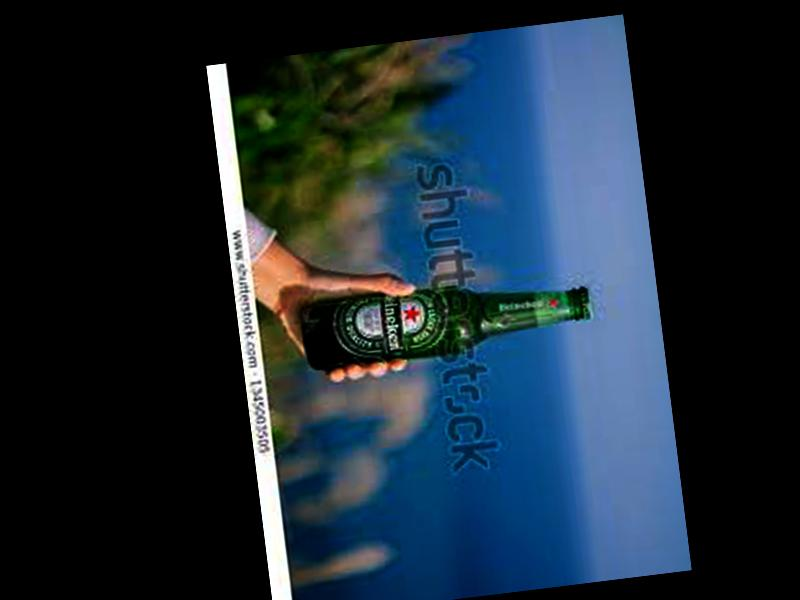Beer: (298, 267, 594, 371)
